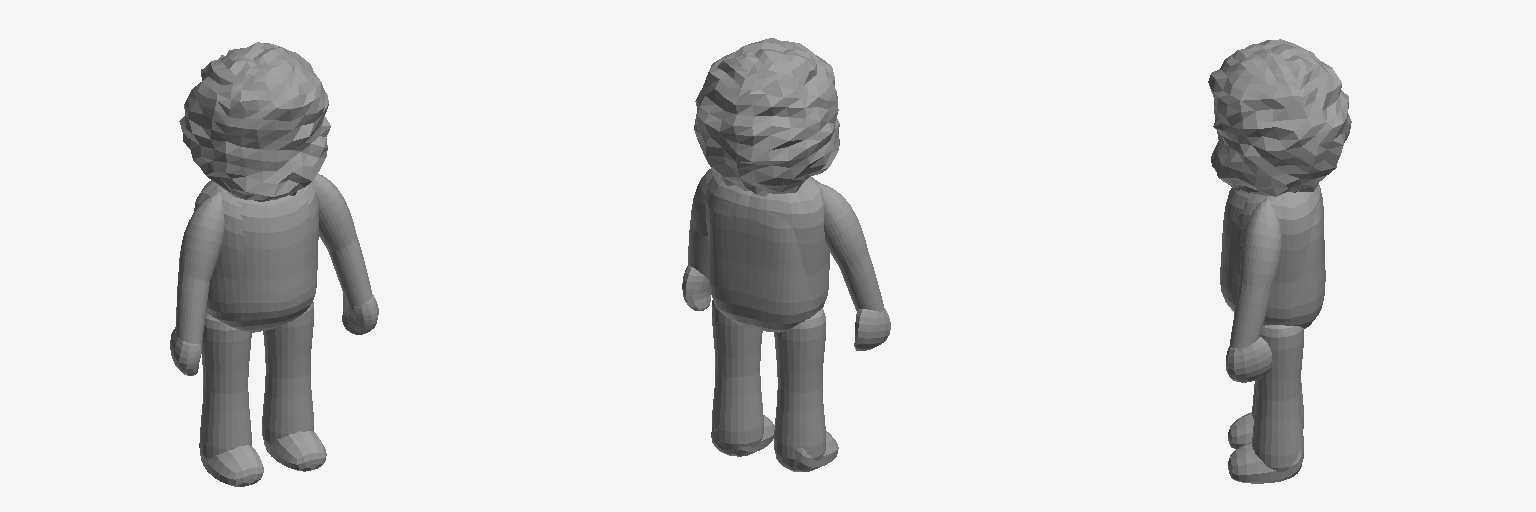
Rendered from cultchar.obj.
3 renders of one model, left to right at view 1: azimuth 30°, elevation 25°; view 2: azimuth 150°, elevation 25°; view 3: azimuth 270°, elevation 25°, orthographic.
Visible parts, largest first — view 1: bodymale_Cylinder, headmale_Sphere.002; view 2: bodymale_Cylinder, headmale_Sphere.002; view 3: bodymale_Cylinder, headmale_Sphere.002.
Part boxes in pixels (left/top/right/bottom): bodymale_Cylinder: left=170, top=174, right=378, bottom=486; headmale_Sphere.002: left=179, top=42, right=330, bottom=201; bodymale_Cylinder: left=682, top=169, right=890, bottom=471; headmale_Sphere.002: left=694, top=38, right=839, bottom=196; bodymale_Cylinder: left=1220, top=184, right=1325, bottom=483; headmale_Sphere.002: left=1208, top=39, right=1351, bottom=196.
Size of the model in its own units: 2.4 by 4.77 by 1.49.